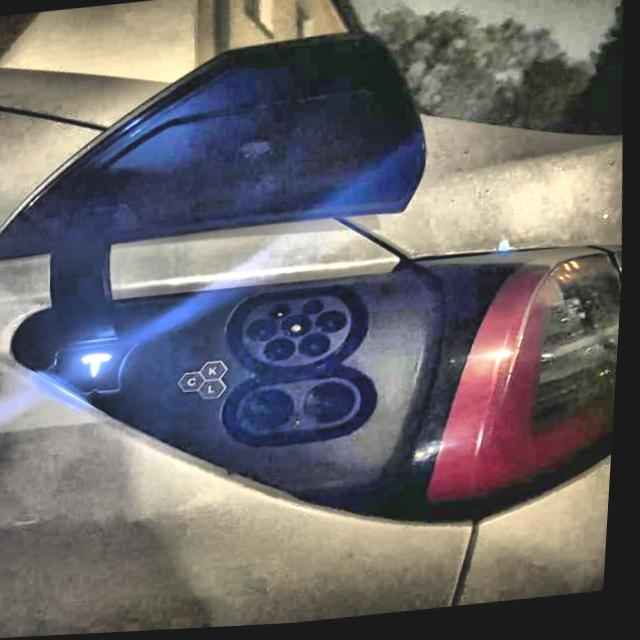inlet: (246, 299, 355, 370)
inlet-above-left: (272, 306, 295, 322)
inlet-above-right: (306, 303, 328, 318)
inlet-below-left: (268, 341, 299, 363)
inlet-below-right: (302, 337, 335, 360)
inlet-center: (284, 318, 316, 341)
inlet-center-left: (250, 322, 282, 345)
inlet-center-right: (319, 315, 350, 336)
